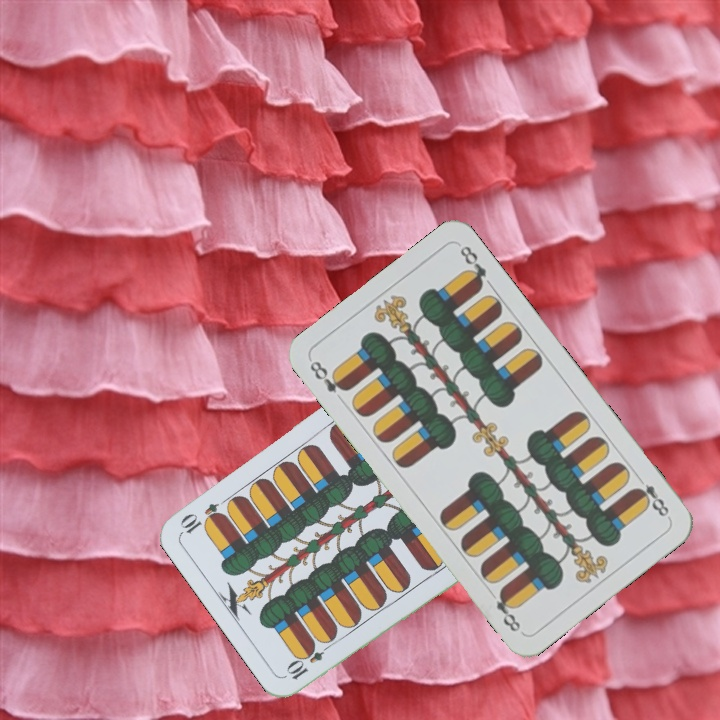E10: (283, 637, 335, 683)
E8: (630, 470, 672, 519), (305, 356, 352, 396)
